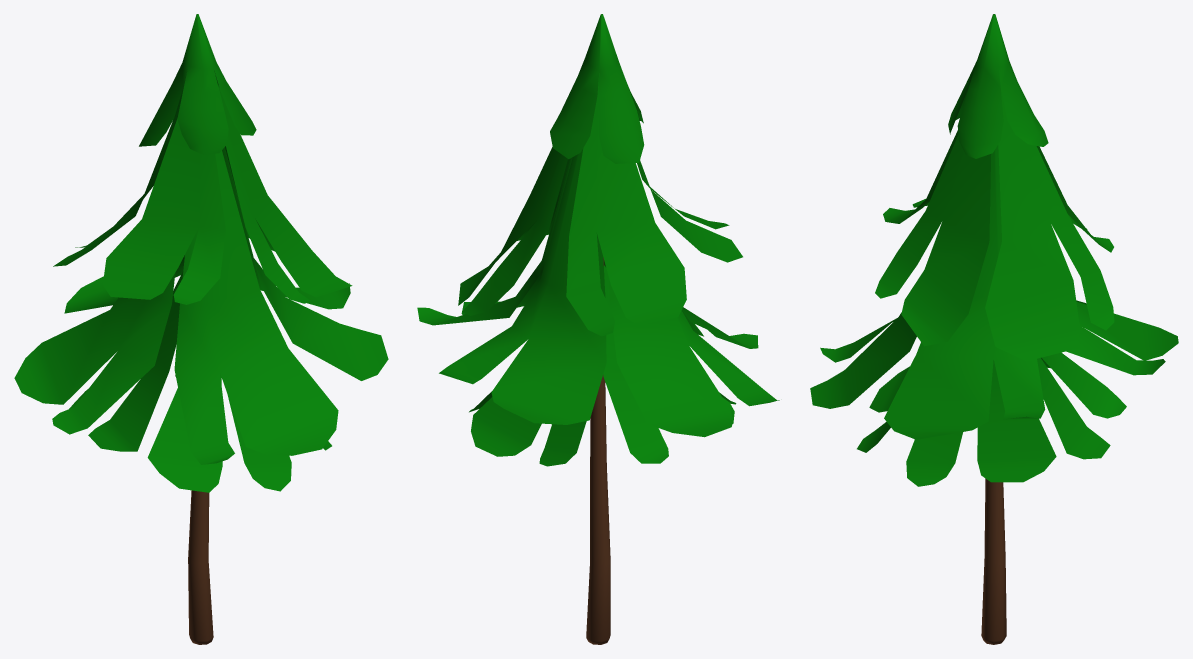
File: pineTree02.fbx
The picture shows the model from 3 angles, left to right: view 1: azimuth 30°, elevation 25°; view 2: azimuth 150°, elevation 25°; view 3: azimuth 270°, elevation 25°; orthographic projection.
Parts seen in each view (by area): view 1: pineTree02; view 2: pineTree02; view 3: pineTree02.
Part boxes in pixels (left/top/right/bottom): pineTree02: left=14, top=14, right=388, bottom=644; pineTree02: left=417, top=14, right=779, bottom=644; pineTree02: left=810, top=14, right=1178, bottom=644.
Bounding box in the file's own units: 912 × 1655 × 886.
